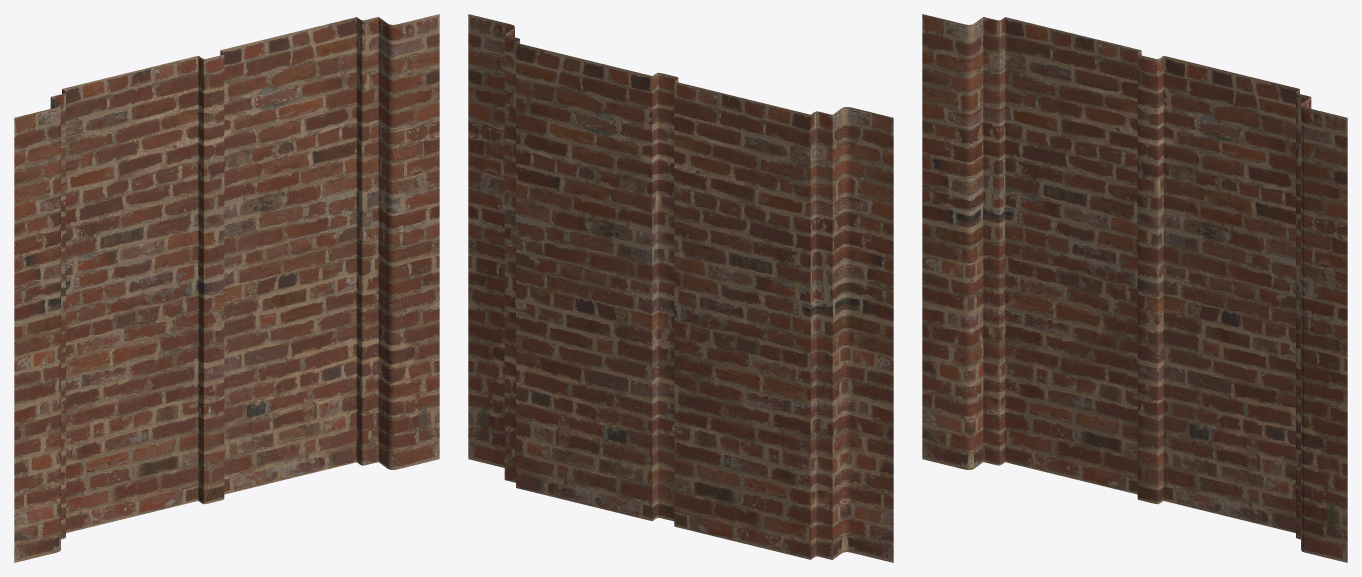
File: SM_Wall_B_NoInterior.fbx
3 renders of one model, left to right at view 1: azimuth 30°, elevation 25°; view 2: azimuth 150°, elevation 25°; view 3: azimuth 330°, elevation 25°, orthographic.
Visible parts, largest first — view 1: SM_Wall_B_NoInterior; view 2: SM_Wall_B_NoInterior; view 3: SM_Wall_B_NoInterior.
Part boxes in pixels (x1,y1,x2,y2): SM_Wall_B_NoInterior: [14, 14, 439, 562]; SM_Wall_B_NoInterior: [468, 14, 893, 562]; SM_Wall_B_NoInterior: [922, 14, 1347, 562].
Size of the model in its own units: 700 by 50.13 by 700.
1 material, 1 textured.
